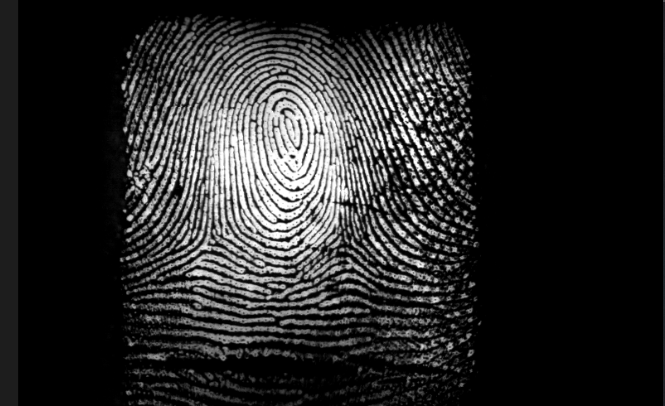nucelo: (272, 106, 309, 169)
verticilo: (192, 231, 221, 258), (336, 230, 360, 256)
